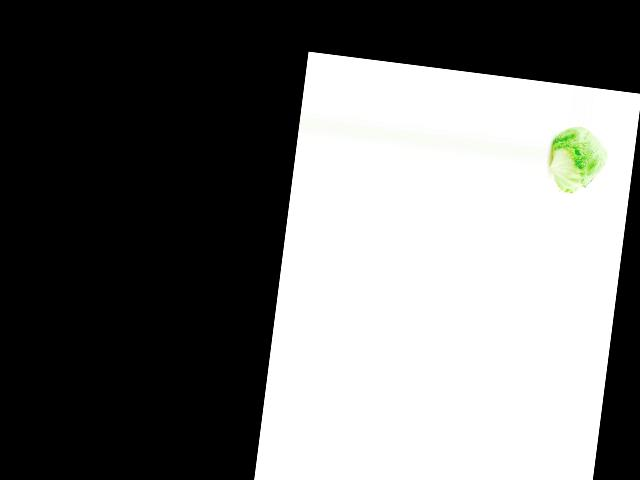lettuce: (546, 121, 612, 197)
